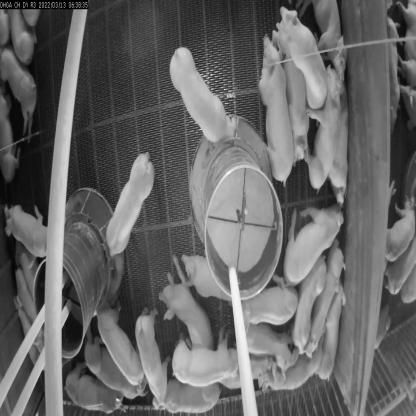Pig: (166, 42, 238, 147), (154, 252, 215, 358), (256, 34, 294, 191), (274, 7, 330, 112), (107, 150, 157, 260), (276, 26, 313, 169), (284, 207, 346, 285), (128, 301, 170, 412), (306, 66, 341, 194), (98, 299, 146, 389), (303, 238, 340, 352), (0, 45, 40, 148), (84, 329, 138, 401), (2, 197, 59, 263), (180, 242, 234, 307), (170, 342, 243, 388), (64, 362, 125, 416), (236, 324, 300, 372), (232, 284, 302, 325), (380, 185, 415, 266), (290, 257, 318, 357), (264, 360, 332, 399), (8, 233, 48, 299), (157, 374, 221, 415), (320, 287, 344, 391), (389, 30, 400, 140)
